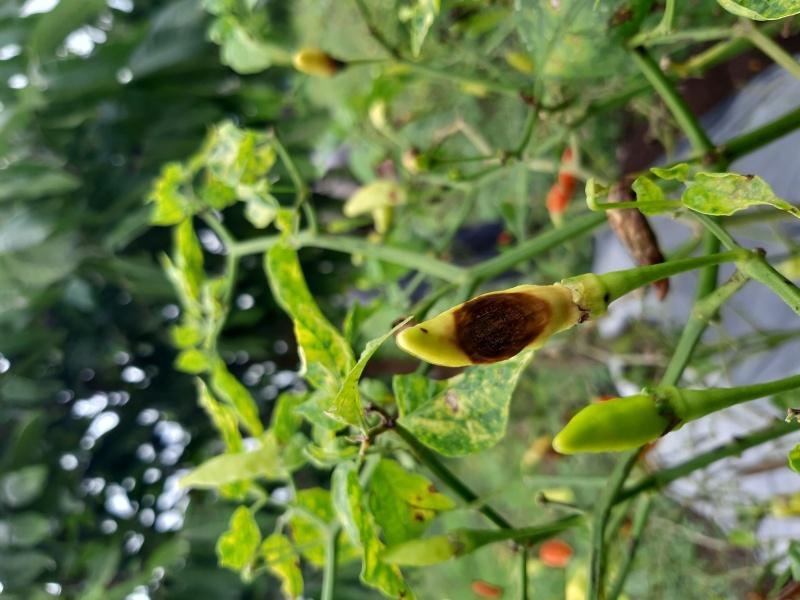antraknosa: (396, 282, 584, 367)
cabai_normal: (552, 389, 673, 456)
